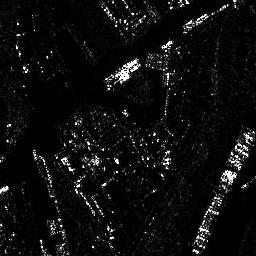ship: (104, 55, 140, 89)
